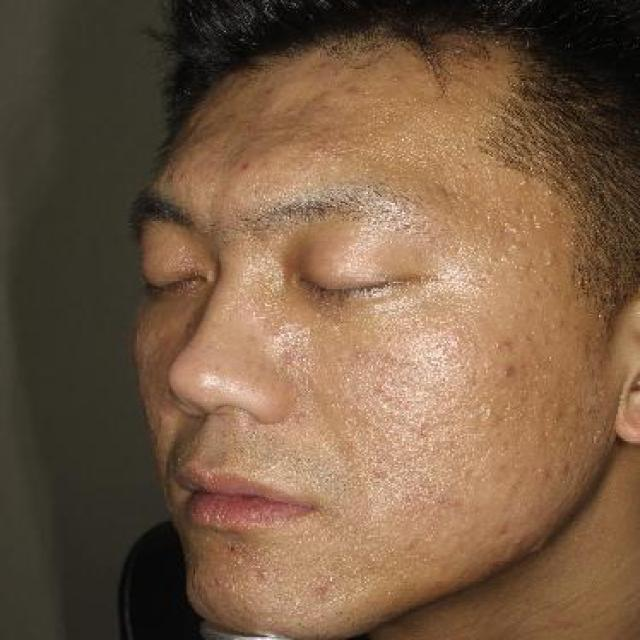papules: (491, 362, 522, 386), (276, 348, 300, 374), (291, 408, 313, 428), (539, 248, 565, 264), (308, 580, 329, 598)
whiteheads: (505, 202, 527, 220), (482, 174, 500, 189), (517, 174, 532, 186)
